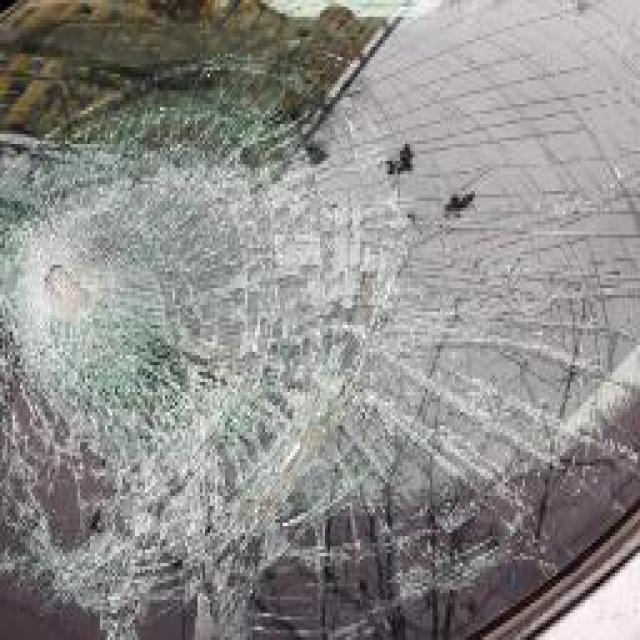Windshield: (0, 3, 640, 640)
